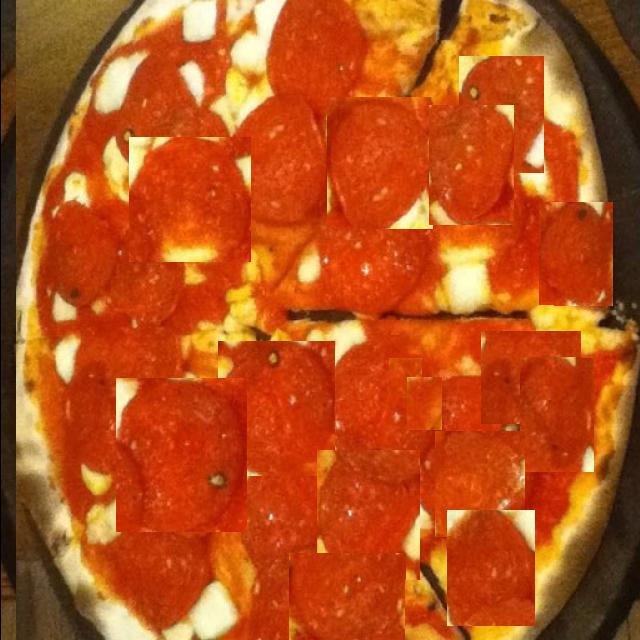pepperoni: (115, 378, 246, 532), (217, 341, 334, 476), (128, 137, 250, 262), (230, 176, 338, 316), (326, 97, 432, 229), (314, 450, 418, 580), (289, 2, 391, 114), (446, 510, 534, 626), (428, 105, 513, 225), (288, 553, 404, 640), (458, 56, 543, 173), (434, 431, 524, 537), (480, 332, 580, 426), (519, 358, 593, 472), (538, 202, 612, 306), (473, 228, 553, 324), (406, 377, 441, 430), (386, 358, 421, 398)
pizza: (15, 0, 640, 640)
